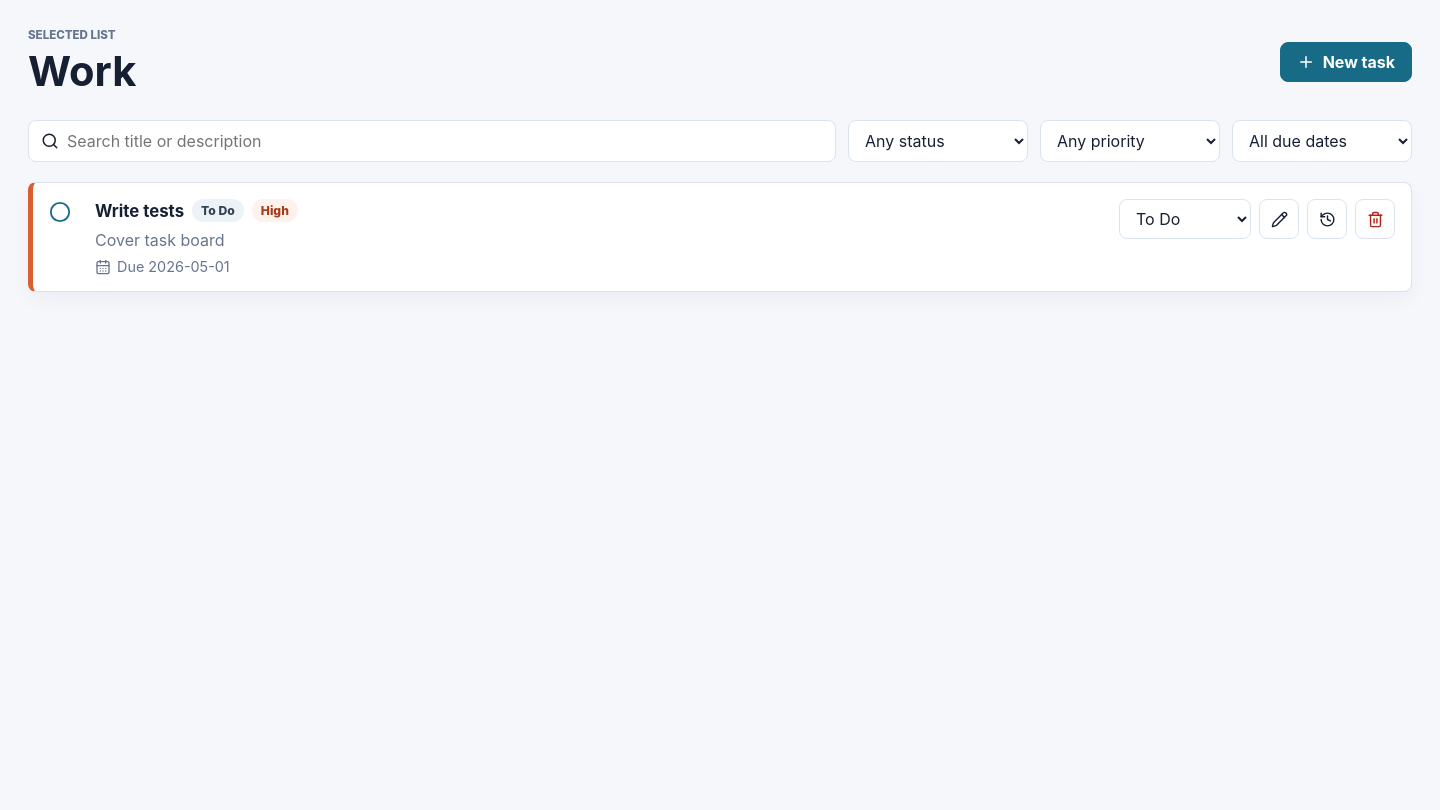
Scenario: TaskBoard › closing the TaskHistoryModal removes it from the DOM
This screenshot has width=1440, height=810.
Expected: the heading "Write tests" is shown, [95,200,184,220]
Step 1. Click the button named "history for write tests" → (1327, 219), box [1307,199,1347,239]
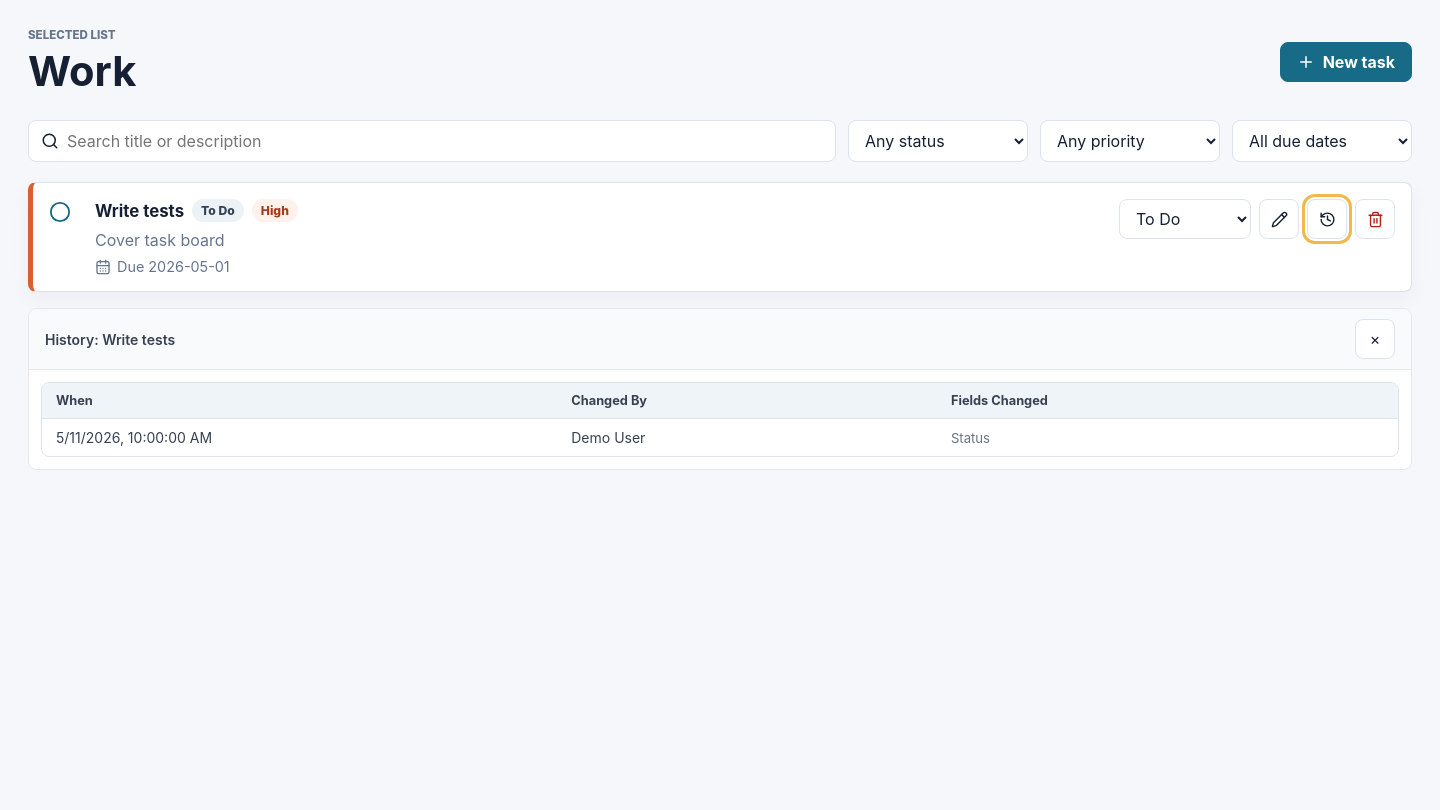
Expected: the text "Demo User" is shown
Step 2. Click the text "Demo User" → (608, 438), box [557,419,937,456]
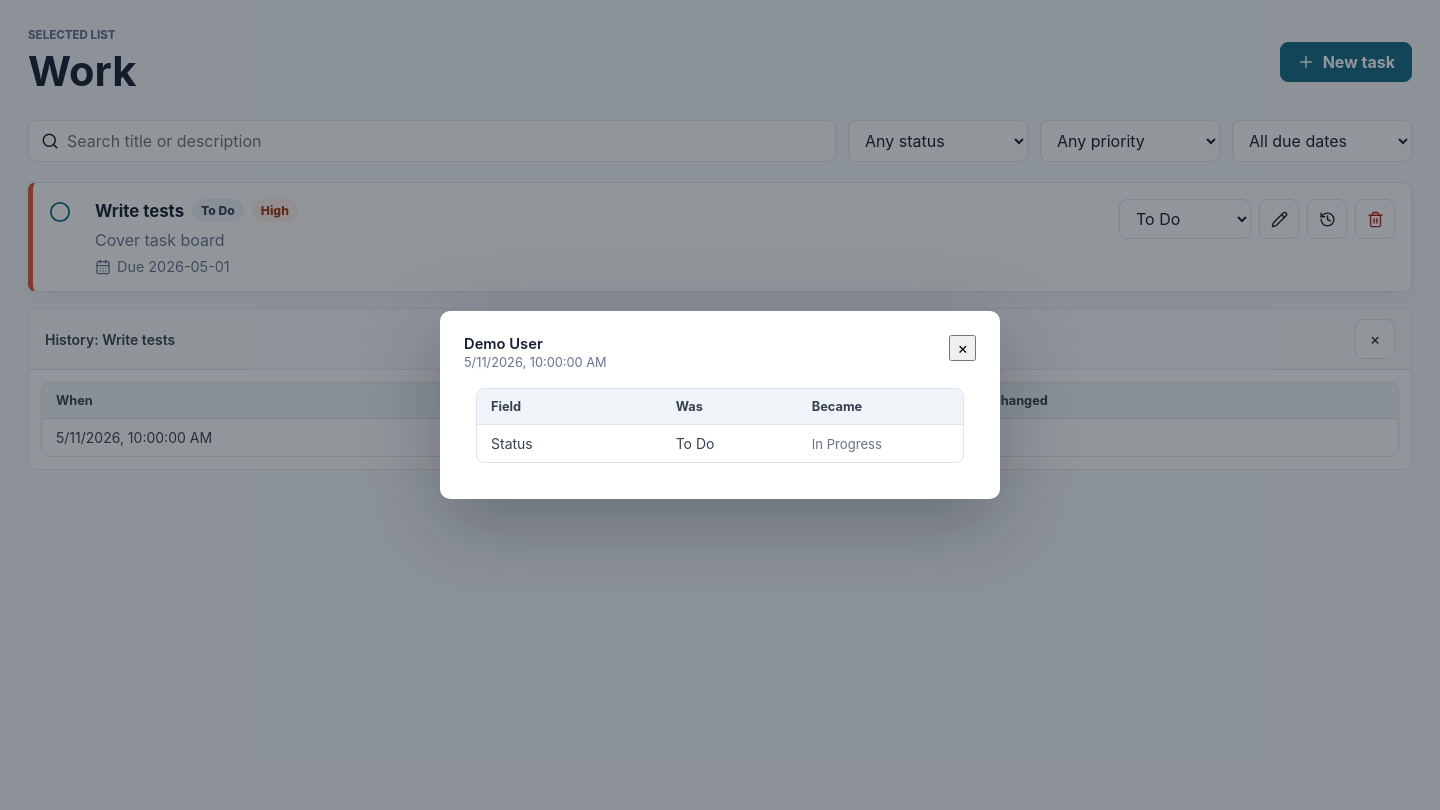
Expected: the element with test id "modal-backdrop" is shown
Step 3. Click the element with test id "modal-backdrop" → (86, 405), box [0,0,1439,809]
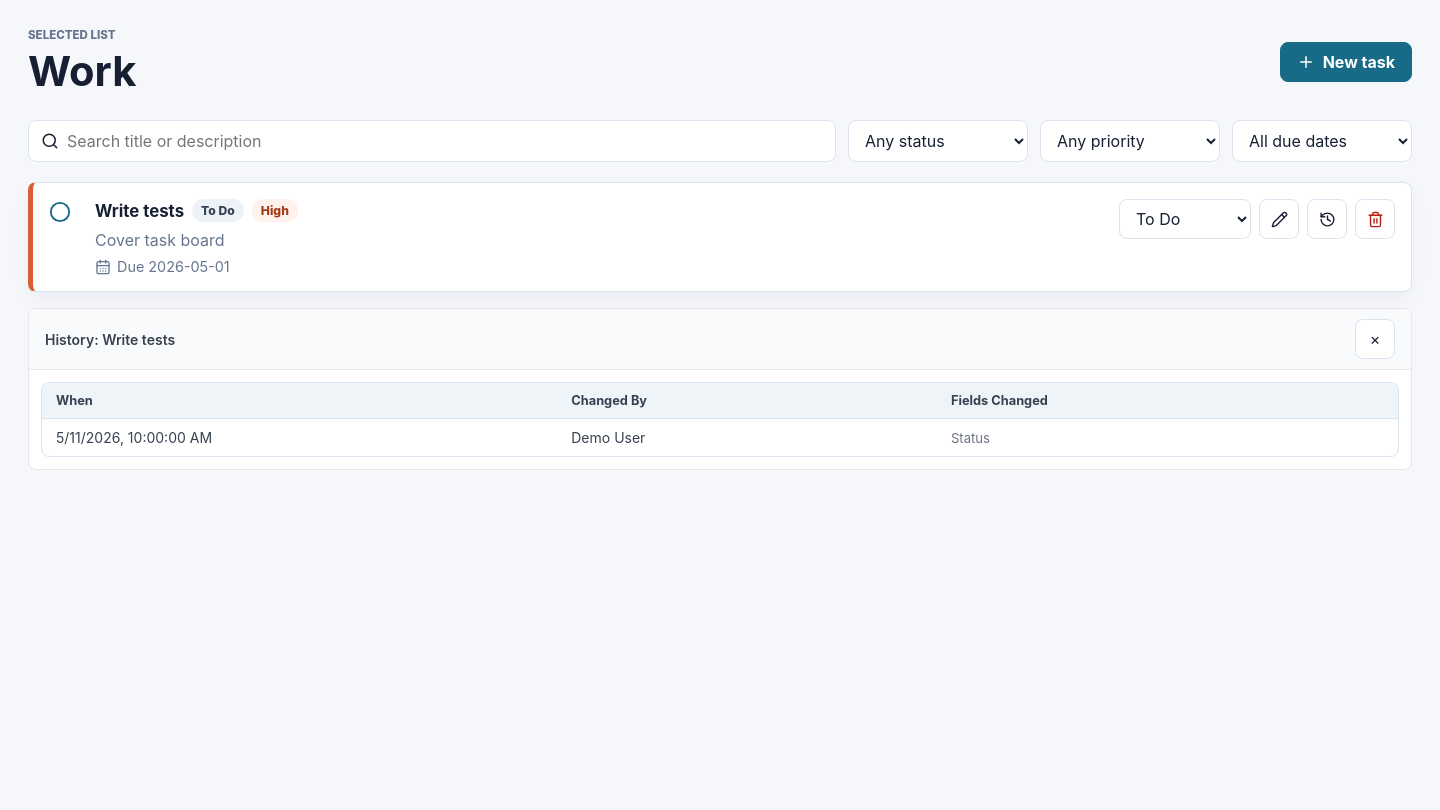
Expected: the element with test id "modal-backdrop" is gone
